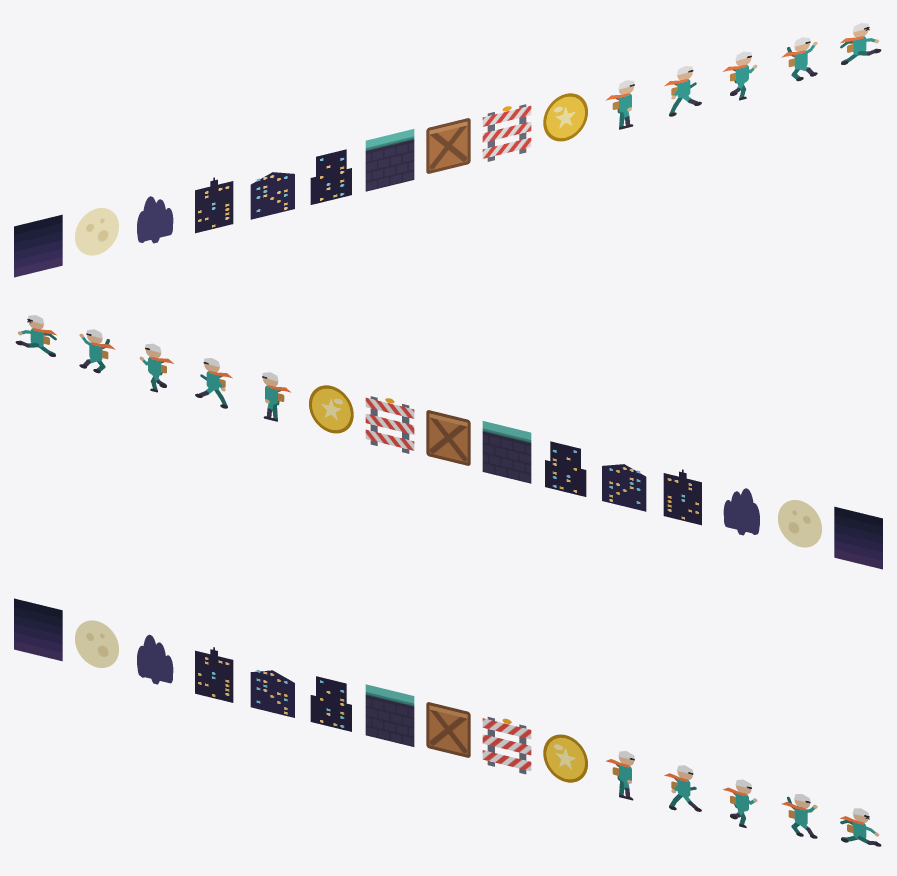
The model's file is sprites.glb.
The picture shows the model from 3 angles, top to bottom: view 1: azimuth 30°, elevation 25°; view 2: azimuth 150°, elevation 25°; view 3: azimuth 330°, elevation 25°; orthographic projection.
Parts seen in each view (by area): view 1: ground, sky, crate, fence, building_c, building_b, building_a, coin, moon, cloud, runner_crash, runner_run_a (+3 smaller); view 2: ground, sky, crate, fence, building_c, building_b, building_a, coin, moon, cloud, runner_crash, runner_run_a (+3 smaller); view 3: ground, sky, crate, fence, building_c, building_b, building_a, coin, moon, cloud, runner_crash, runner_jump (+3 smaller).
Boxes of the visible parts, x1,y1,x2,y2 form: ground: (365, 129, 414, 191); sky: (14, 214, 62, 277); crate: (426, 118, 470, 173); fence: (482, 104, 531, 161); building_c: (310, 149, 351, 204); building_b: (250, 172, 294, 219); building_a: (195, 177, 233, 233); coin: (543, 93, 587, 141); moon: (75, 208, 118, 255); cloud: (137, 196, 173, 243); runner_crash: (840, 23, 881, 64); runner_run_a: (664, 66, 701, 116); ground: (482, 421, 531, 483); sky: (834, 506, 882, 569); crate: (426, 410, 470, 465); fence: (365, 396, 414, 453); building_c: (545, 441, 586, 496); building_b: (602, 464, 646, 511); building_a: (663, 469, 701, 525); coin: (309, 385, 353, 433); moon: (778, 500, 821, 547); cloud: (723, 488, 759, 535); runner_crash: (15, 315, 56, 356); runner_run_a: (195, 358, 232, 408); ground: (365, 684, 414, 746); sky: (14, 598, 62, 661); crate: (426, 702, 470, 757); fence: (482, 717, 531, 774); building_c: (310, 676, 351, 731); building_b: (250, 669, 294, 717); building_a: (195, 647, 233, 702); coin: (543, 734, 587, 782); moon: (75, 620, 118, 667); cloud: (137, 634, 173, 684); runner_crash: (840, 808, 881, 846); runner_jump: (781, 794, 817, 838).
Bounding box in the file's own units: 17.8 × 1 × 0.
Materials: 15 (15 with a texture image).
